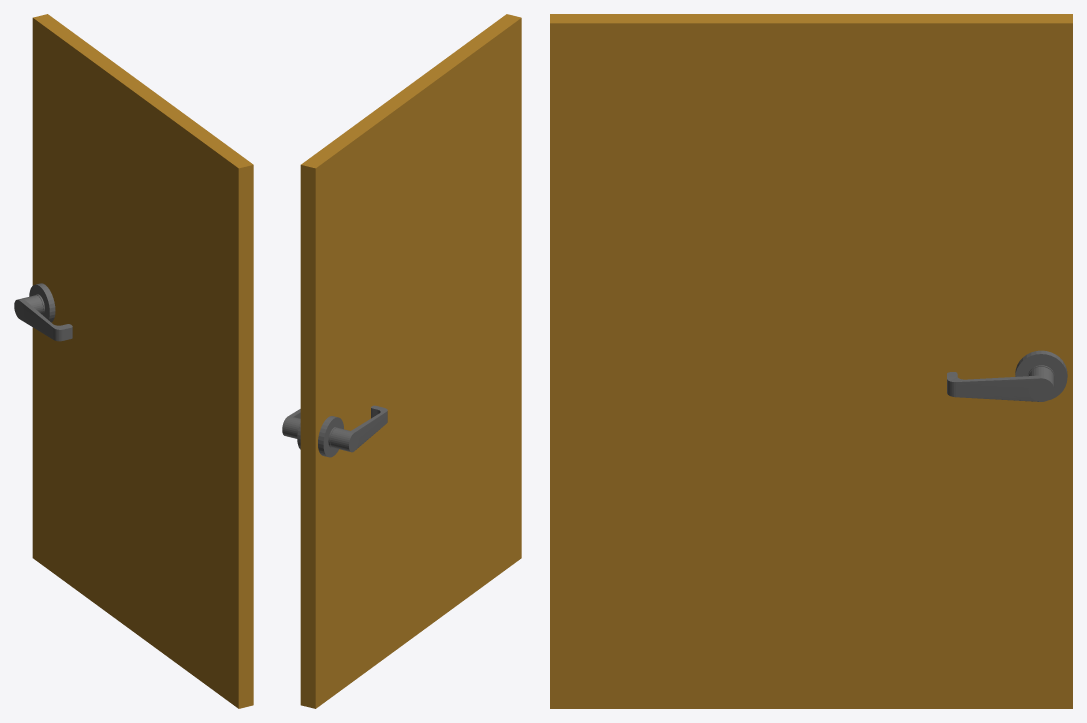
The model's file is Door.fbx.
The picture shows the model from 3 angles, left to right: view 1: azimuth 30°, elevation 25°; view 2: azimuth 150°, elevation 25°; view 3: azimuth 270°, elevation 25°; orthographic projection. The views are drawn at different scales.
Visible parts, largest first — view 1: Door; view 2: Door; view 3: Door.
Part boxes in pixels (x1,y1,x2,y2): Door: (14,14,253,708); Door: (282,14,521,708); Door: (550,14,1072,708).
Bounding box in the file's own units: 0.3874 × 3 × 2.07.
